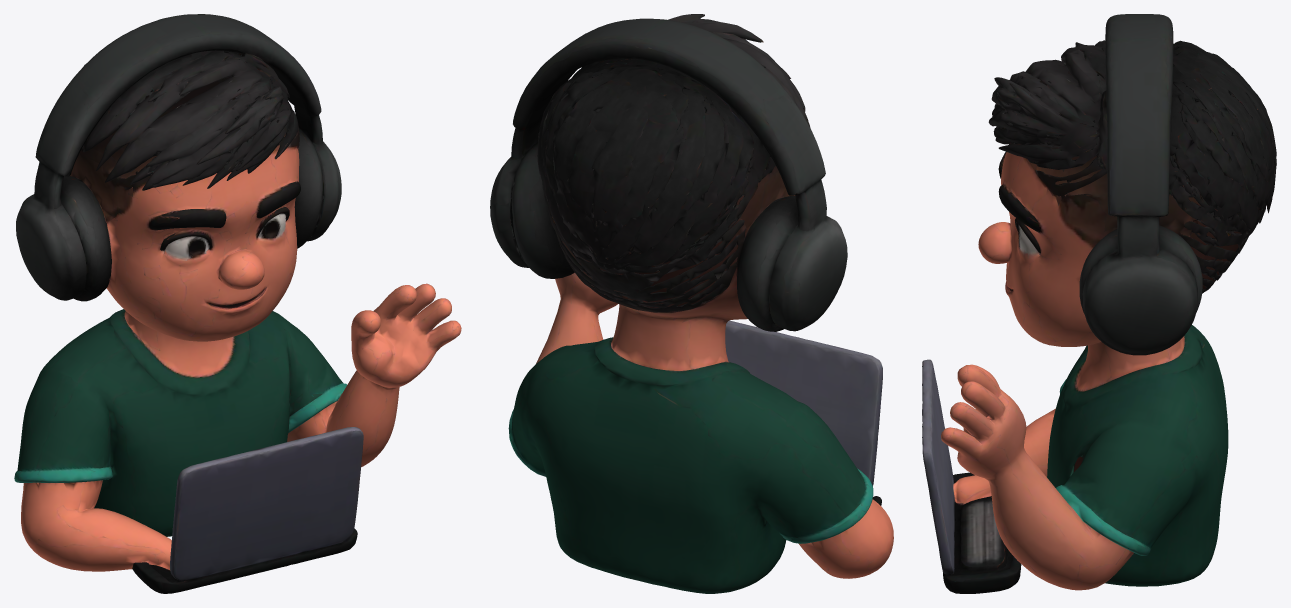
The model's file is avatar-static-optimized.glb.
The picture shows the model from 3 angles, left to right: view 1: azimuth 30°, elevation 25°; view 2: azimuth 150°, elevation 25°; view 3: azimuth 270°, elevation 25°; orthographic projection. The views are drawn at different scales.
Visible parts, largest first — view 1: world; view 2: world; view 3: world.
Part boxes in pixels (x1=…): world: x1=14, y1=14, x2=461, y2=593; world: x1=490, y1=14, x2=893, y2=593; world: x1=922, y1=14, x2=1276, y2=593.
Size of the model in its own units: 0.8026 by 1 by 0.6193.
1 material, 1 textured.
